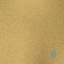person: (50, 49, 55, 58)
